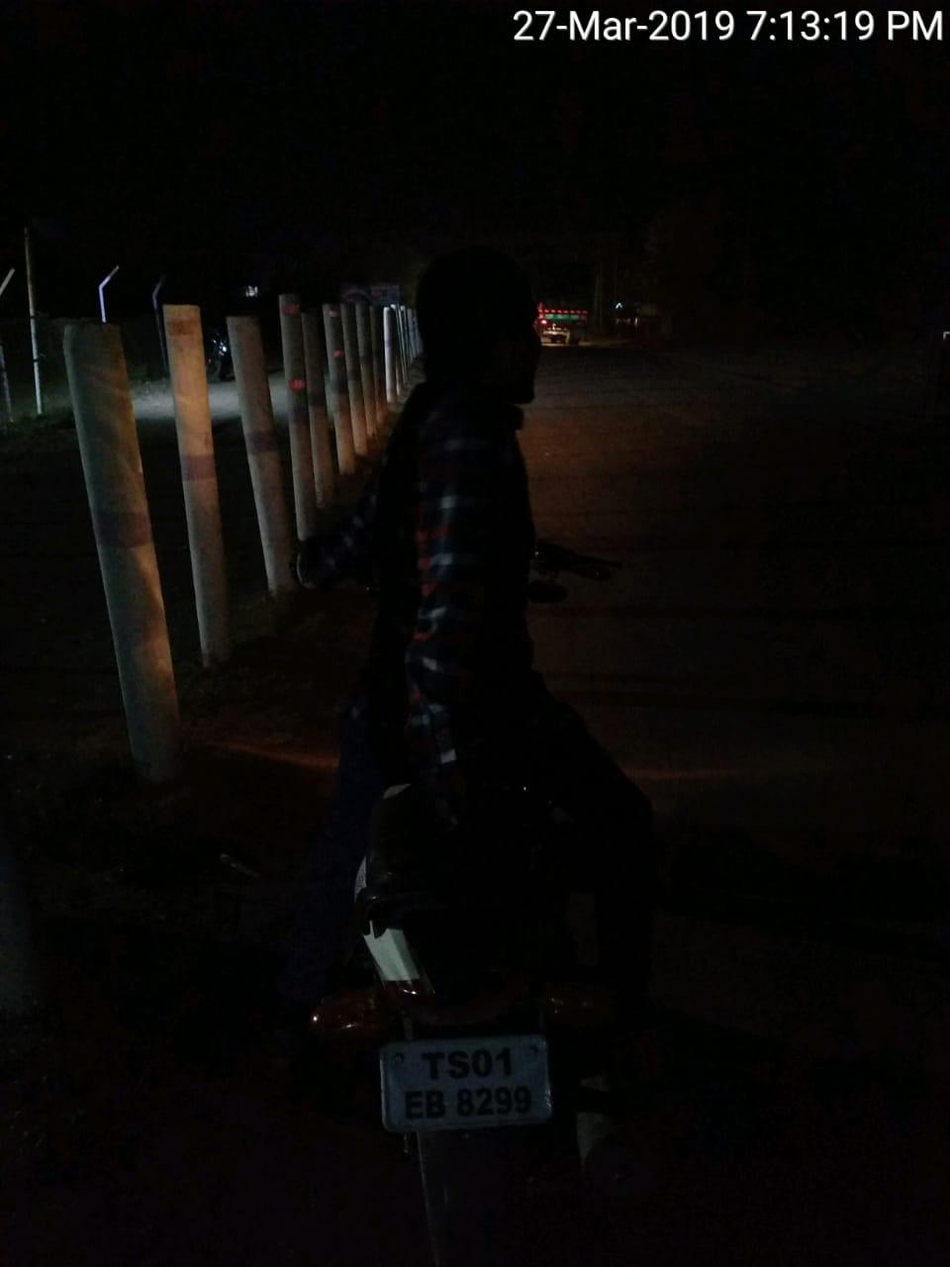plate: (359, 1024, 569, 1138)
